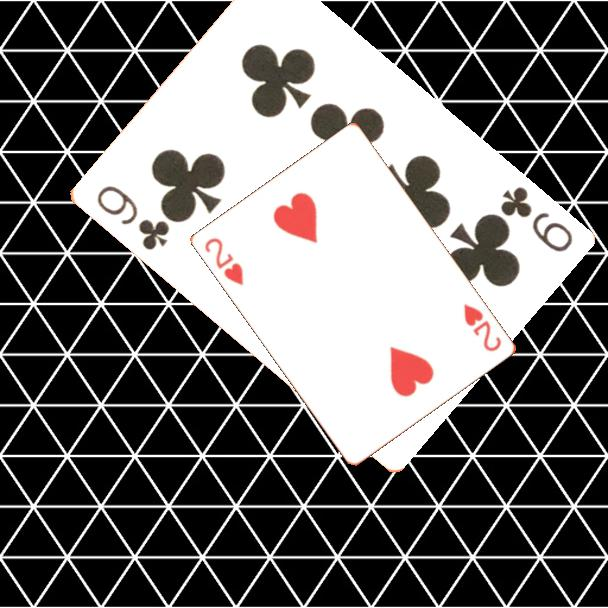c09: (496, 182, 575, 256), (92, 181, 172, 254)
h02: (201, 234, 247, 289), (460, 300, 505, 355)
